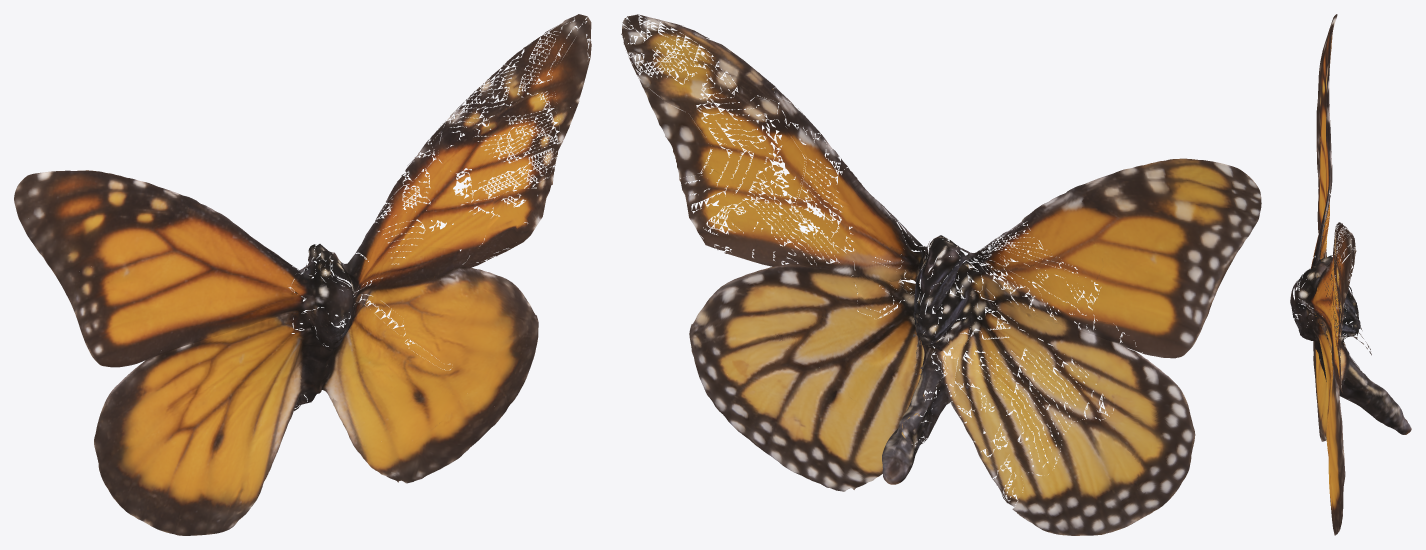
The model's file is monarch_final.glb.
3 views of the same model, side by side, from view 1: azimuth 30°, elevation 25°; view 2: azimuth 150°, elevation 25°; view 3: azimuth 270°, elevation 25° (orthographic). The views are drawn at different scales.
Parts seen in each view (by area): view 1: Object_3, Object_2, Object_4; view 2: Object_2, Object_4, Object_3; view 3: Object_3, Object_2, Object_4.
Boxes of the visible parts, x1,y1,x2,y2 form: Object_3: (14, 170, 538, 529); Object_2: (289, 14, 591, 407); Object_4: (18, 17, 591, 535); Object_2: (622, 14, 1142, 506); Object_4: (621, 16, 1261, 535); Object_3: (689, 166, 1256, 500); Object_3: (1290, 14, 1411, 535); Object_2: (1291, 194, 1371, 446); Object_4: (1292, 14, 1371, 533).
Bounding box in the file's own units: 2.91 × 1.96 × 0.5925.
1 material, 1 textured.
